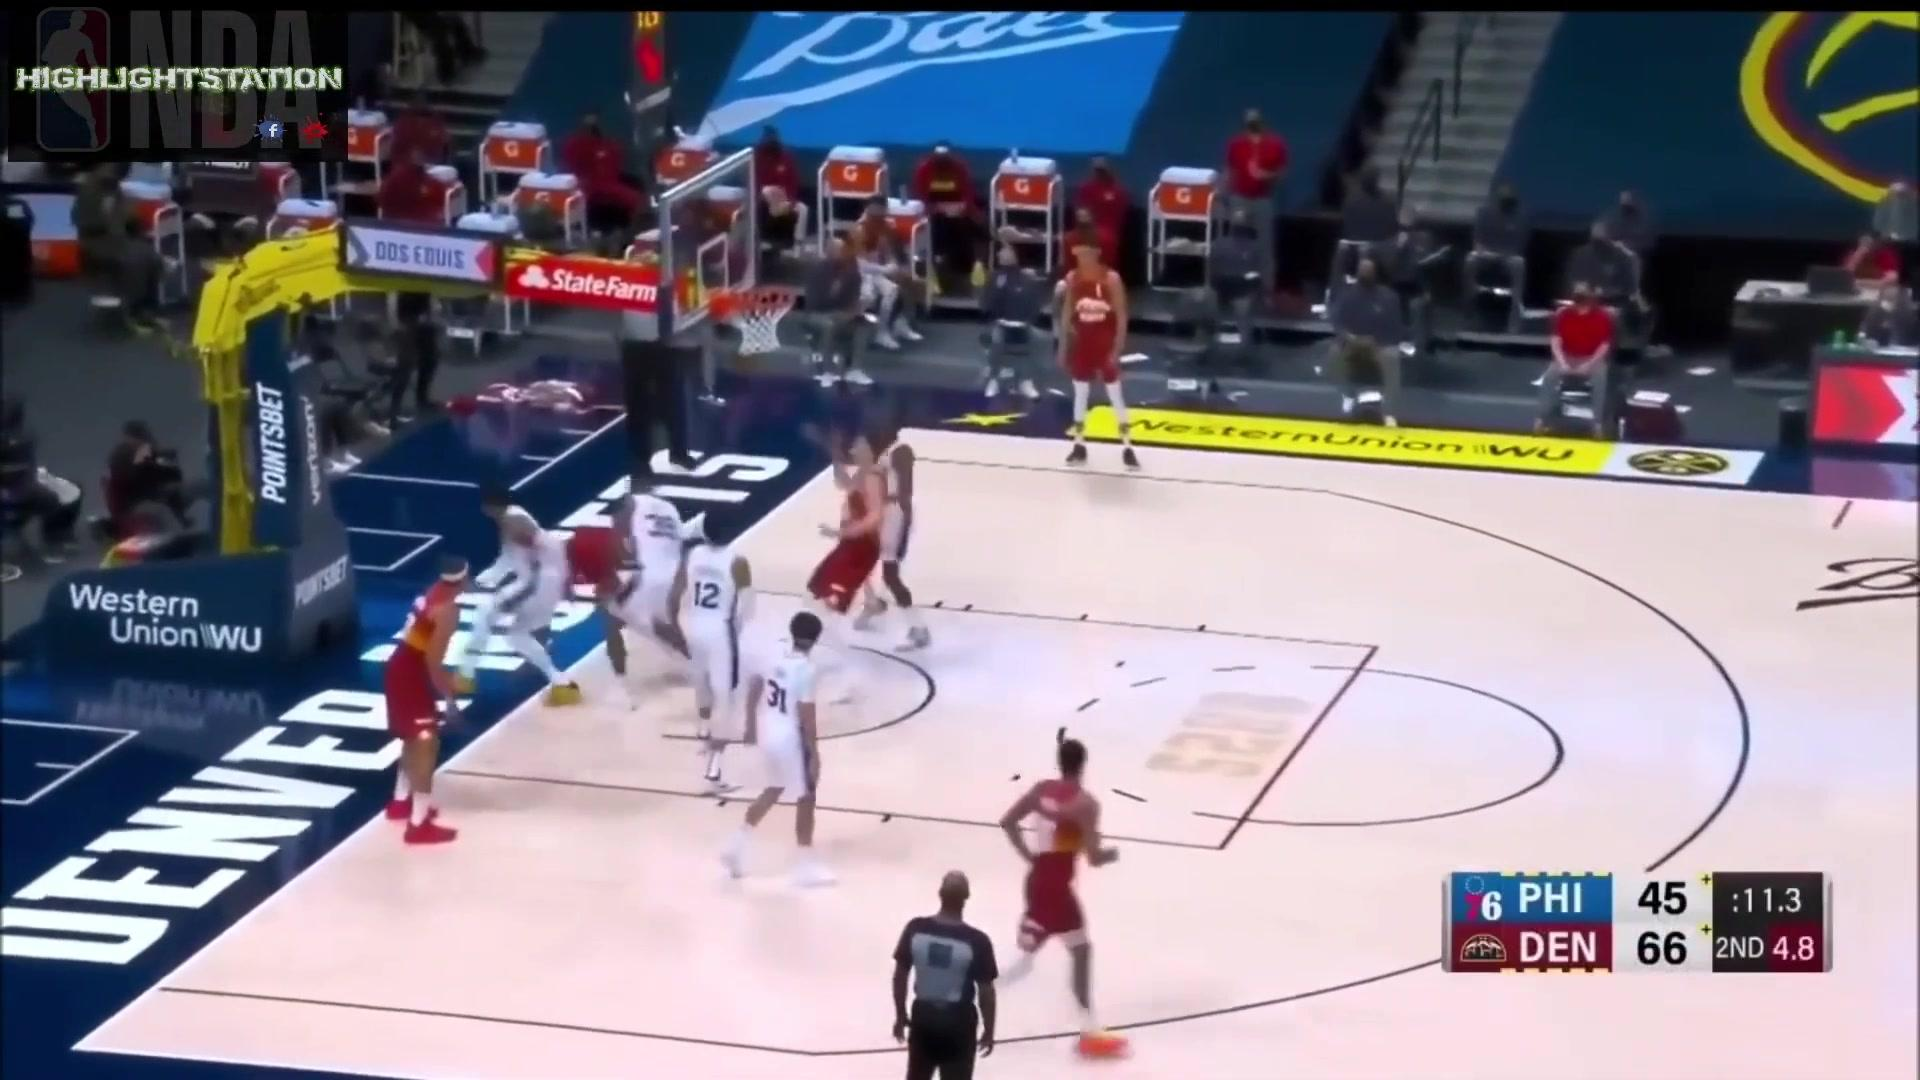no_foul: (806, 390, 944, 637)
